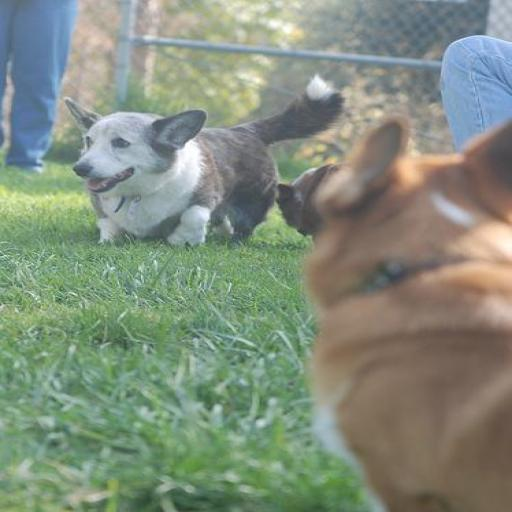dog_face: (57, 93, 211, 191)
